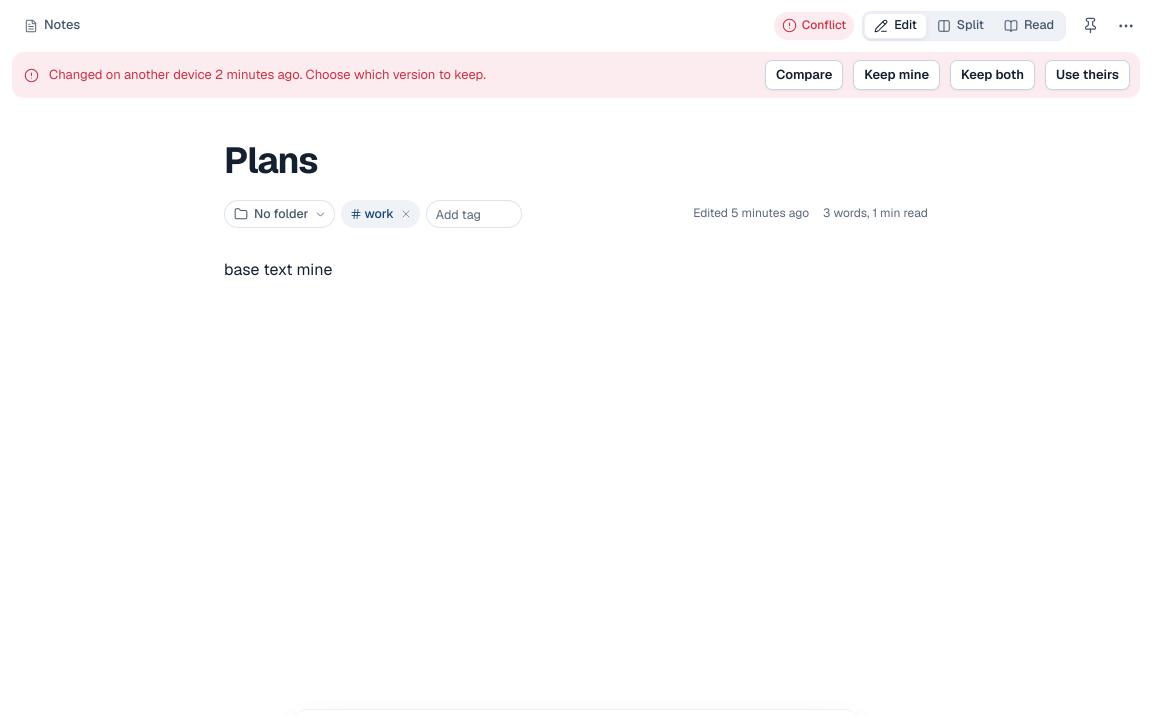
Test case: a conflict with another device › Keep both pressed again after a reply that never came makes no second copy
The width and height of the screenshot is (1152, 716).
Step 1. Click the button "Keep both" → (993, 75), box left=950, top=60, right=1035, bottom=90
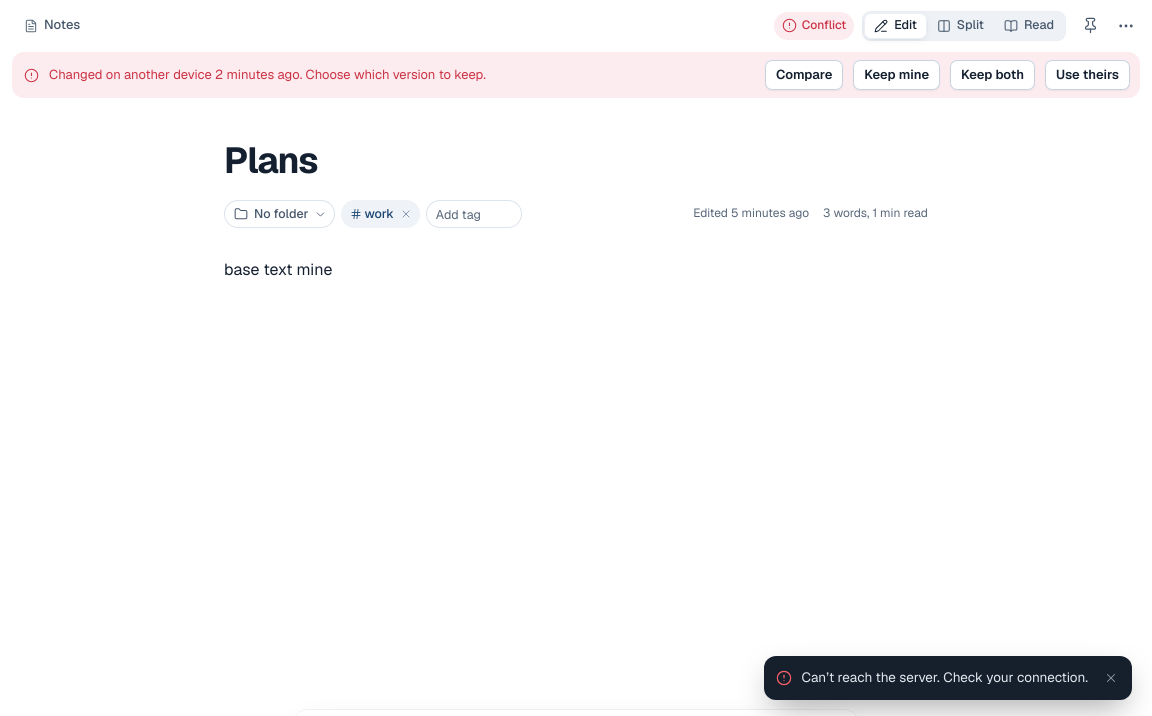
Step 2. Click the button "Keep both" → (993, 75), box left=950, top=60, right=1035, bottom=90
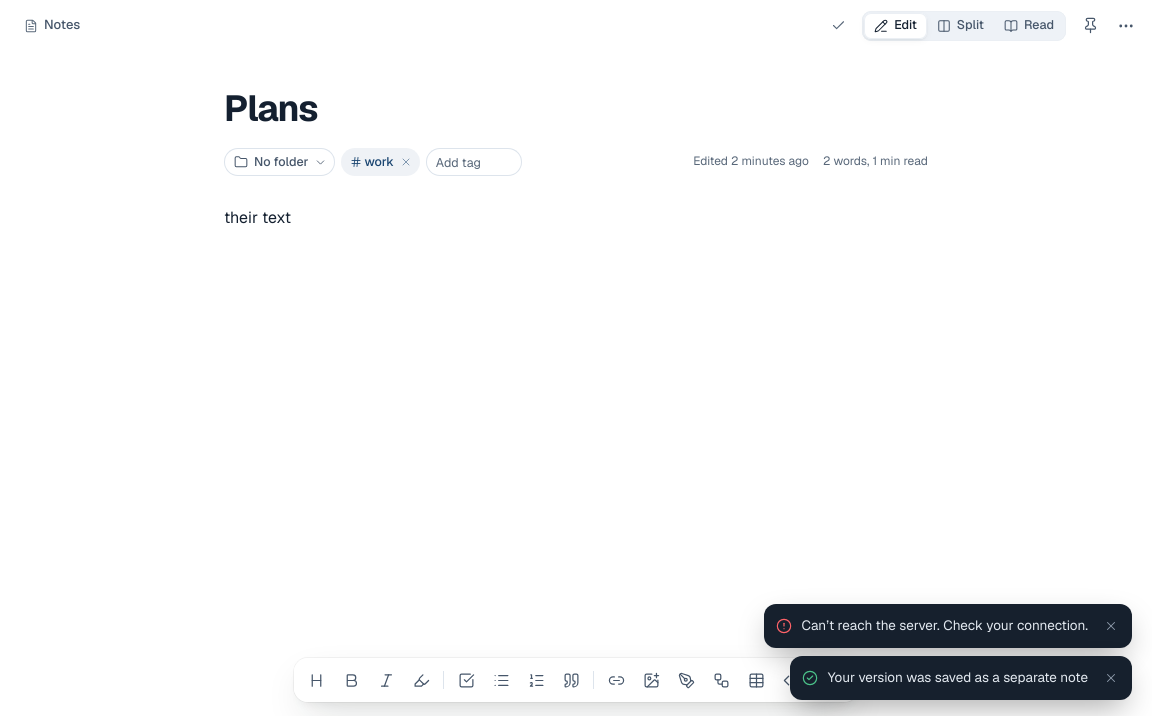
Expected: the text box labelled "their text" is shown, left=224, top=207, right=291, bottom=228
Expected: the message with class "alert-danger" is gone
